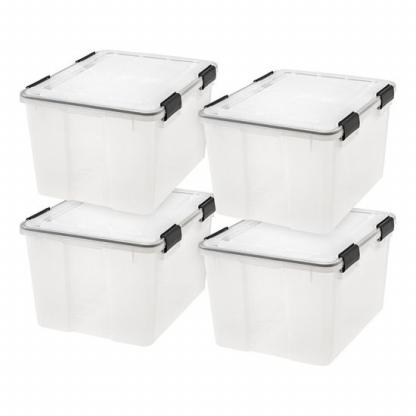plastic_box: (193, 17, 400, 235), (17, 14, 221, 219)
